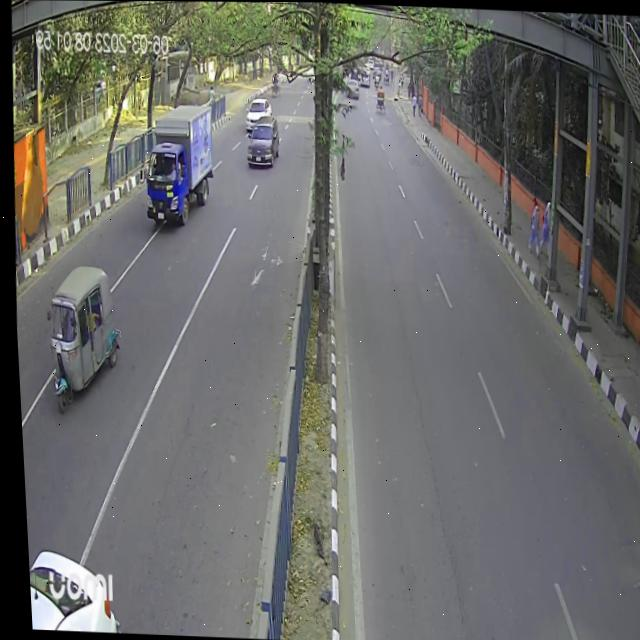cng: (38, 252, 117, 414)
rikshaw: (372, 82, 385, 115)
